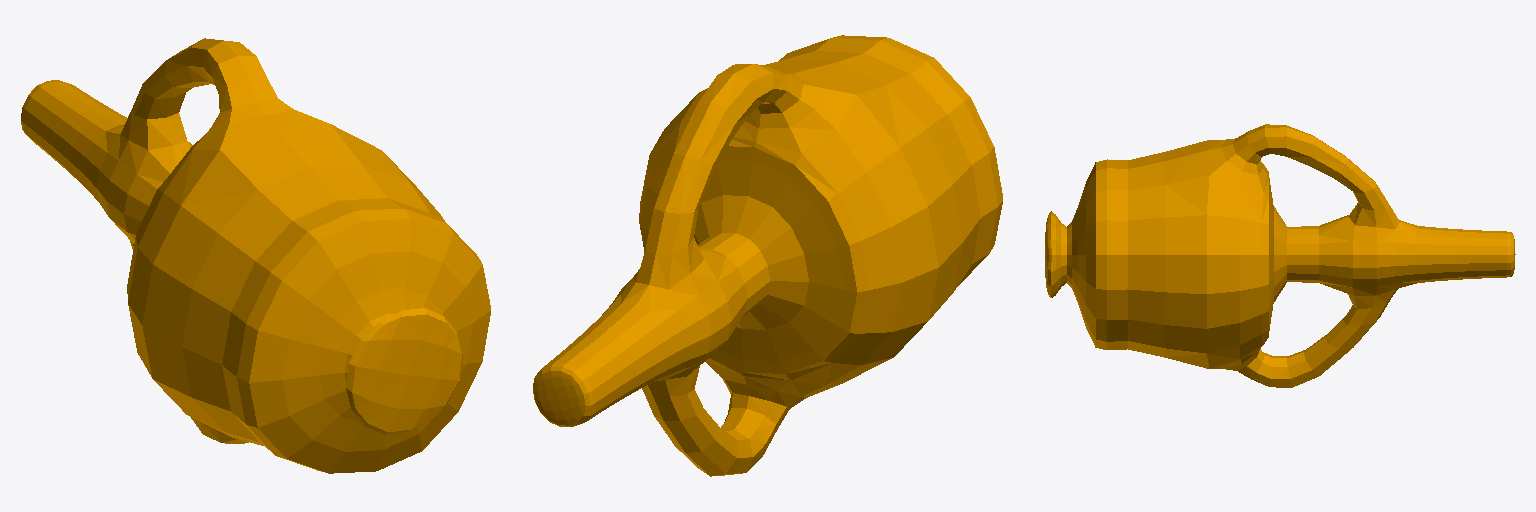
The robot description file, URDF, robot "62":
<?xml version="1.0" ?>
<robot name="62">
  <link name="body">
    <visual>
      <geometry>
        <mesh filename="../shapes/62.obj"/>
      </geometry>
    </visual>
    <collision>
      <geometry>
        <mesh filename="../shapes/62.obj"/>
      </geometry>
    </collision>
  </link>
</robot>

--- Facts derived from the render (not from the file) ---
Views: 3 orthographic renders of the robot side by side, from view 1: azimuth 30°, elevation 25°; view 2: azimuth 150°, elevation 25°; view 3: azimuth 270°, elevation 25°.
Robot: 62 — 1 links, 0 joints (none); root link body; default pose: all joints at 0.
Visible links, largest first — view 1: body; view 2: body; view 3: body.
Boxes of the visible links, x1,y1,x2,y2 form: body: [21, 38, 490, 473]; body: [533, 35, 1002, 476]; body: [1045, 124, 1515, 387].
Bounding box of the posed robot: 5.93 × 13.13 × 7.94 m (x, y, z).
Meshes: 1 distinct files referenced, 1 mesh visuals loaded (1 OBJ).